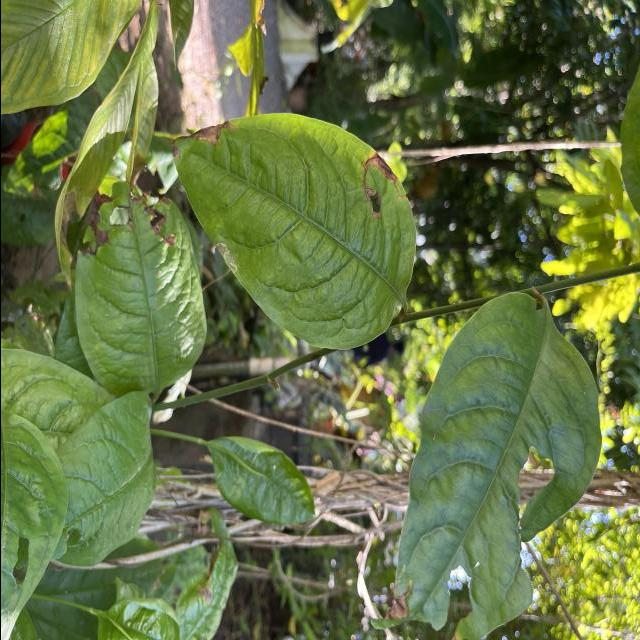Plumbago indica: (389, 282, 603, 640), (166, 108, 419, 350), (70, 172, 212, 390), (39, 394, 159, 574), (204, 432, 316, 530)
